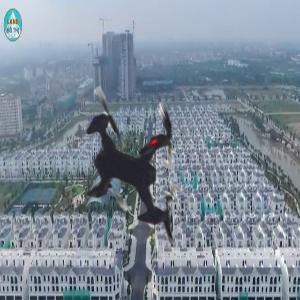drone: (15, 46, 258, 289)
